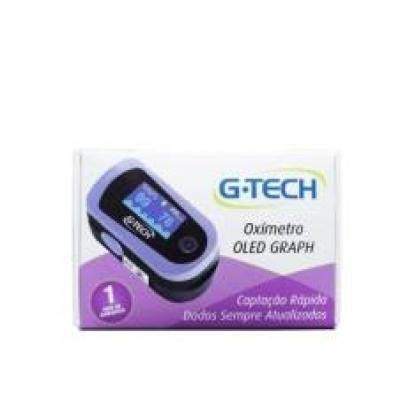Displays: (122, 182, 188, 239)
